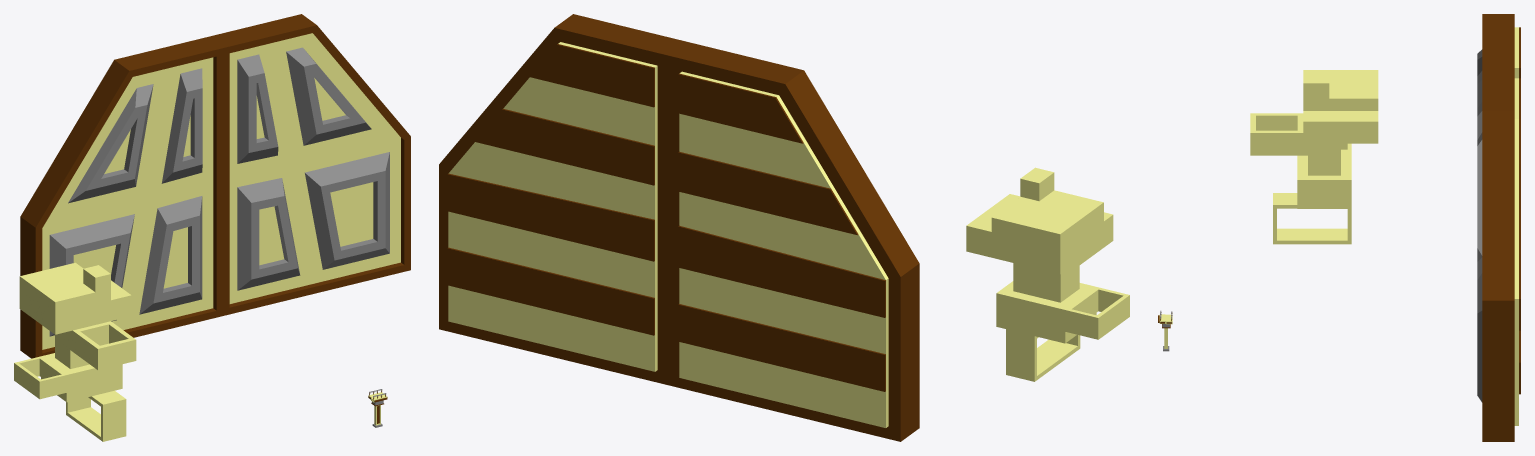
The picture shows the model from 3 angles, left to right: view 1: azimuth 30°, elevation 25°; view 2: azimuth 150°, elevation 25°; view 3: azimuth 270°, elevation 25°; orthographic projection. The views are drawn at different scales.
Parts seen in each view (by area): view 1: Component_4_1, Component_4_2, Component_5_1; view 2: Component_4_2, Component_4_1, Component_5_1; view 3: Component_4_1, Component_5_1, Component_4_2.
Boxes of the visible parts, x1=… form: Component_4_1: x1=208, y1=14, x2=410, y2=315; Component_4_2: x1=20, y1=37, x2=223, y2=358; Component_5_1: x1=14, y1=262, x2=136, y2=441; Component_4_2: x1=670, y1=42, x2=919, y2=441; Component_4_1: x1=439, y1=14, x2=688, y2=385; Component_5_1: x1=966, y1=167, x2=1129, y2=381; Component_4_1: x1=1477, y1=62, x2=1520, y2=441; Component_5_1: x1=1250, y1=70, x2=1378, y2=244; Component_4_2: x1=1477, y1=14, x2=1520, y2=107.
Size of the model in its own units: 16088 by 9033 by 10436.
